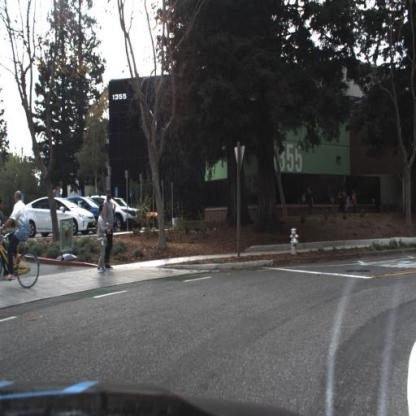biker: (1, 191, 42, 295)
car: (19, 198, 98, 239), (88, 193, 143, 233), (109, 196, 137, 229), (68, 195, 101, 213)
pedestrian: (104, 182, 118, 278), (95, 205, 110, 275), (304, 178, 318, 217), (304, 185, 318, 217), (350, 188, 362, 215)
